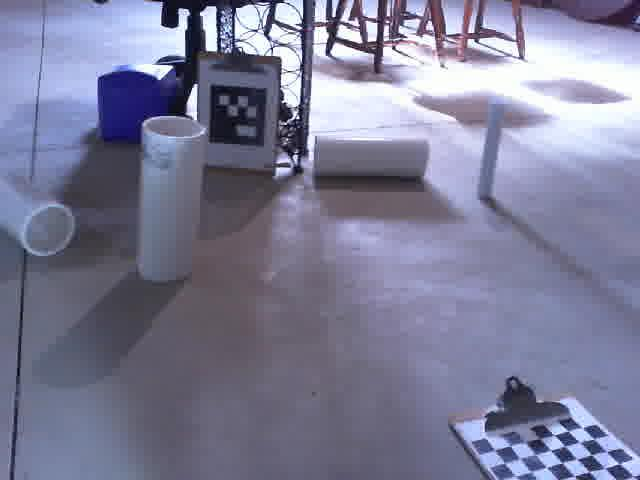coral: (139, 116, 204, 282), (0, 167, 75, 257), (311, 135, 432, 181)
